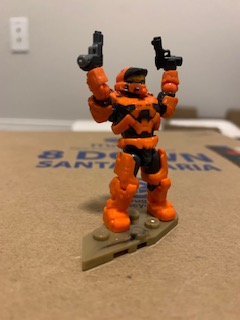pistol: (75, 30, 108, 70), (149, 34, 183, 72)
spartan: (82, 49, 185, 229)
up: (78, 55, 184, 137)
